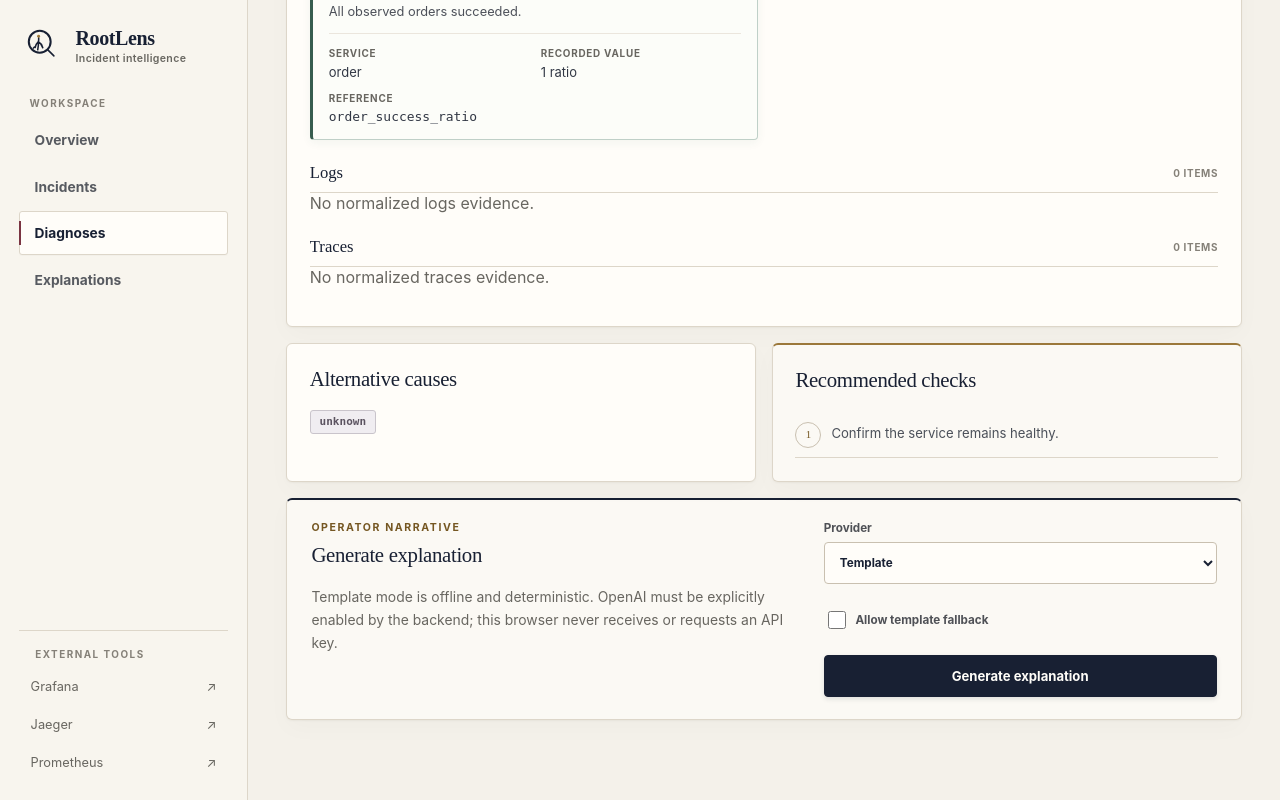
it: diagnoses and explanations › navigates after successful explanation generation
(page scrolled)
Click the button "Generate explanation" at (1020, 676), box top-left (824, 655), bottom-right (1217, 697)
(page scrolled)
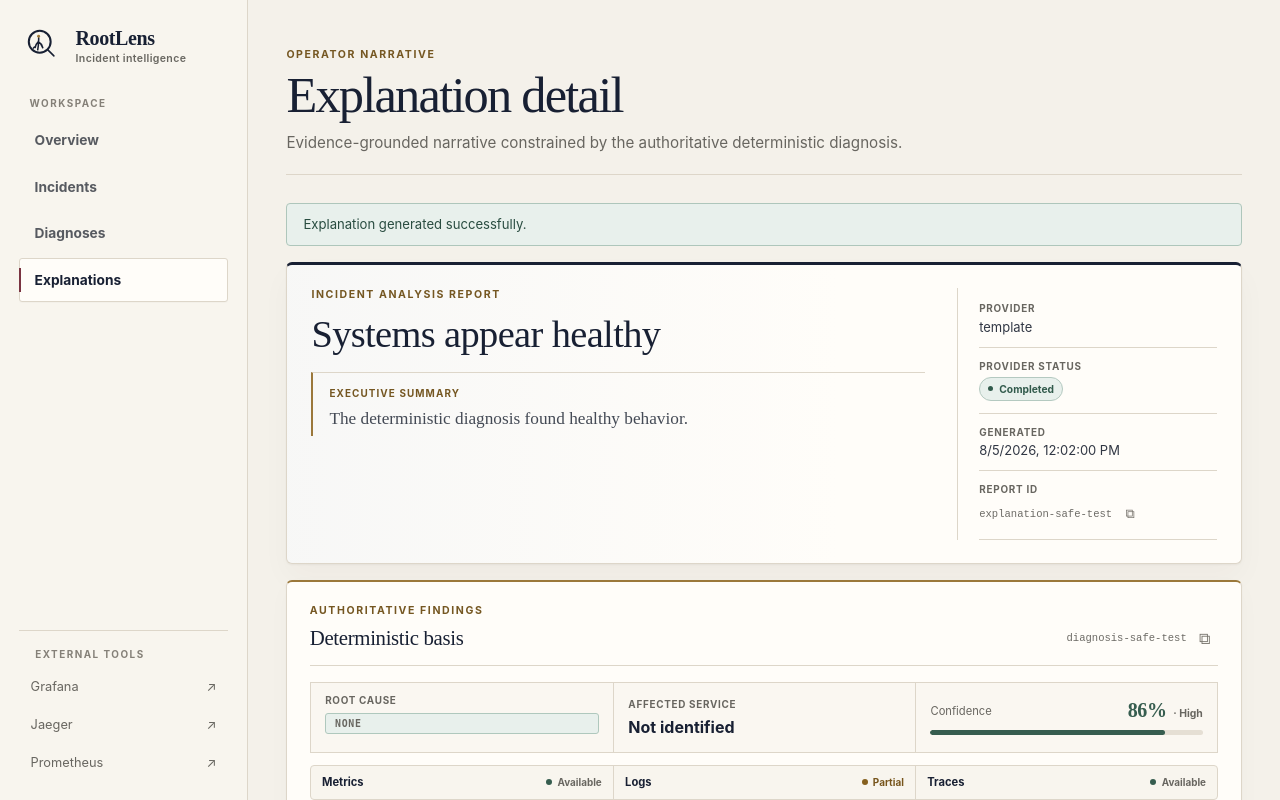
Now the heading "Explanation detail" is shown, box top-left (286, 67), bottom-right (623, 123)
Now the text "Explanation generated successfully." is shown, box top-left (286, 203), bottom-right (1242, 246)
